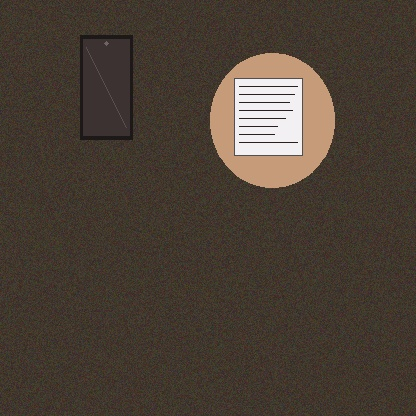cell_phone: (80, 35, 132, 139)
exam_chit: (234, 78, 302, 155)
